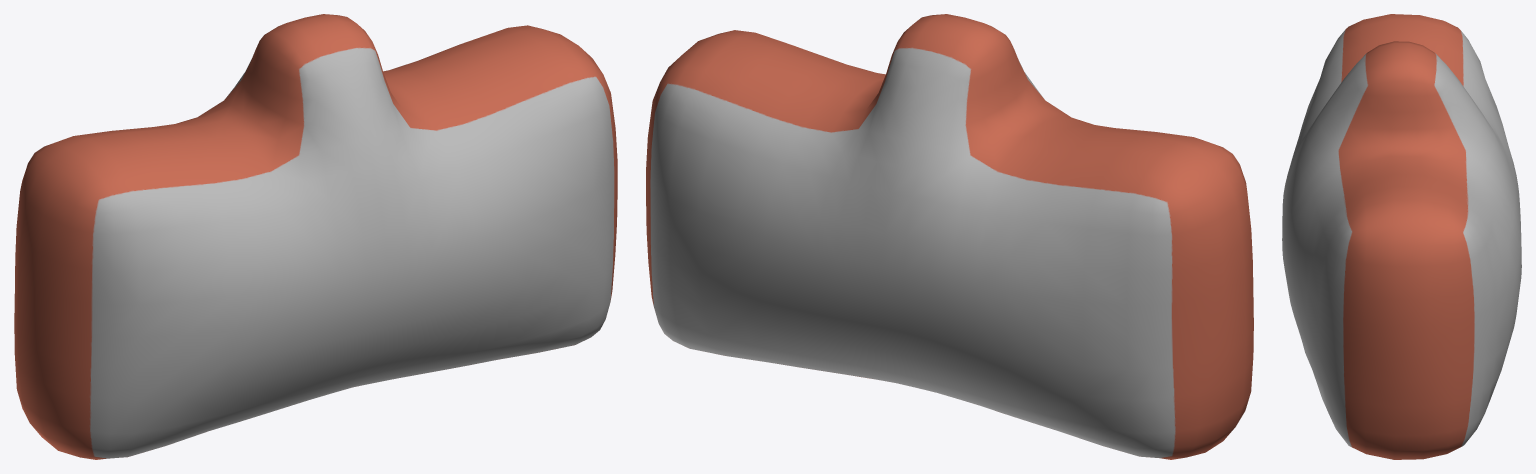
File: Tetris.fbx
3 renders of one model, left to right at view 1: azimuth 30°, elevation 25°; view 2: azimuth 150°, elevation 25°; view 3: azimuth 270°, elevation 25°, orthographic. The views are drawn at different scales.
Visible parts, largest first — view 1: Tetris_M; view 2: Tetris_M; view 3: Tetris_M.
Boxes of the visible parts, x1,y1,x2,y2 form: Tetris_M: [14, 14, 617, 459]; Tetris_M: [646, 14, 1253, 459]; Tetris_M: [1282, 14, 1521, 459].
Size of the model in its own units: 249 by 151 by 107.
